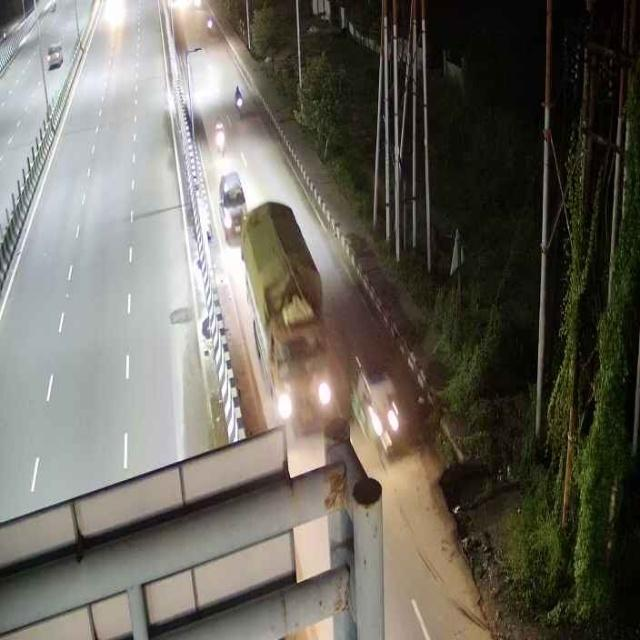car: (346, 347, 403, 458), (213, 171, 247, 240)
